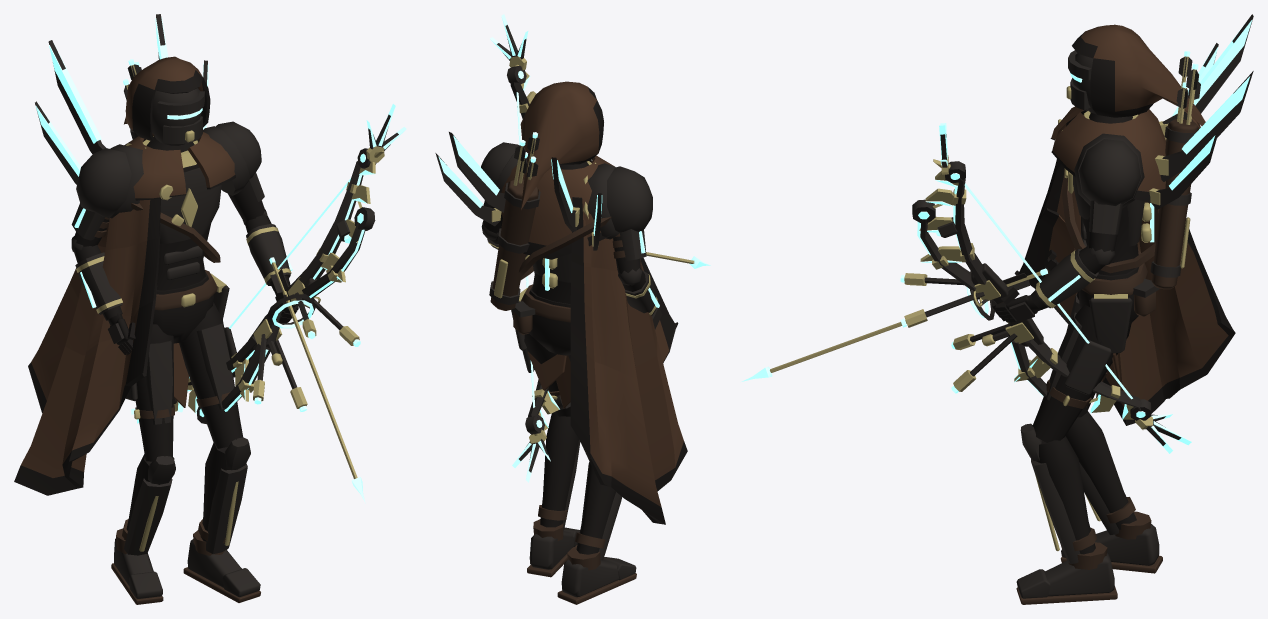
Rendered from hero.glb.
The picture shows the model from 3 angles, left to right: view 1: azimuth 30°, elevation 25°; view 2: azimuth 150°, elevation 25°; view 3: azimuth 270°, elevation 25°; orthographic projection. The views are drawn at different scales.
Visible parts, largest first — view 1: cape_3, torso, head, cape_2, leg_l_upper, tier3_armor, leg_r_upper, leg_l_lower, pelvis, tier5_mantle, bow, leg_r_lower (+12 smaller); view 2: cape_3, cape_2, torso, head, quiver, tier3_armor, pelvis, tier5_mantle, leg_l_lower, leg_r_foot, leg_r_lower, leg_l_foot (+8 smaller); view 3: cape_3, torso, head, tier5_mantle, arm_l_upper, leg_l_lower, leg_l_upper, bow, quiver, pelvis, leg_r_lower, leg_l_foot (+9 smaller).
Part boxes in pixels (box(x1,y1,x2,y2)): cape_3: box(14, 283, 157, 495); torso: box(124, 132, 235, 290); head: box(124, 56, 210, 145); cape_2: box(65, 224, 160, 355); leg_l_upper: box(179, 302, 242, 448); tier3_armor: box(71, 143, 146, 240); leg_r_upper: box(125, 324, 174, 461); leg_l_lower: box(198, 437, 250, 553); pelvis: box(153, 270, 229, 407); tier5_mantle: box(35, 14, 208, 184); bow: box(173, 148, 383, 403); leg_r_lower: box(122, 454, 175, 555); cape_3: box(570, 267, 687, 524); cape_2: box(570, 257, 657, 379); torso: box(500, 155, 614, 303); head: box(520, 81, 603, 209); quiver: box(489, 132, 540, 310); tier3_armor: box(583, 162, 652, 261); pelvis: box(511, 284, 570, 408); tier5_mantle: box(435, 132, 602, 250); leg_l_lower: box(538, 412, 580, 530); leg_r_foot: box(557, 547, 636, 604); leg_r_lower: box(575, 462, 621, 560); leg_l_foot: box(527, 519, 580, 577); cape_3: box(1014, 208, 1235, 425); torso: box(1050, 106, 1166, 275); head: box(1066, 24, 1205, 128); tier5_mantle: box(1083, 14, 1253, 209); arm_l_upper: box(1074, 133, 1144, 265); leg_l_lower: box(1020, 423, 1096, 563); leg_l_upper: box(1032, 304, 1131, 442); bow: box(933, 159, 1151, 429); quiver: box(1150, 51, 1200, 289); pelvis: box(1078, 249, 1159, 397); leg_r_lower: box(1066, 411, 1136, 534); leg_l_foot: box(1016, 542, 1117, 604).
Size of the model in its own units: 1.04 by 1.79 by 1.51.
